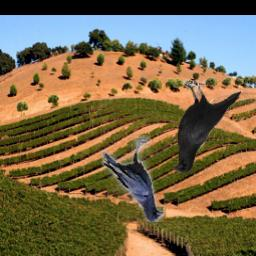Crow: (173, 79, 242, 175), (101, 136, 164, 222)
